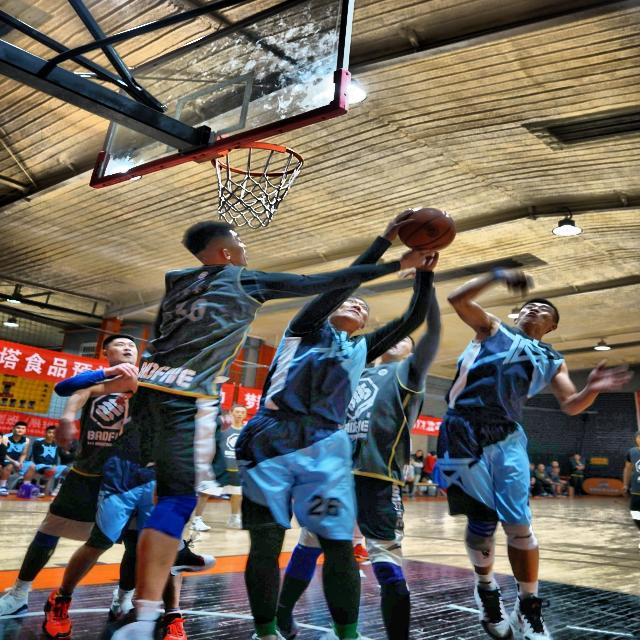board: (397, 206, 457, 250)
rim: (214, 140, 301, 226)
